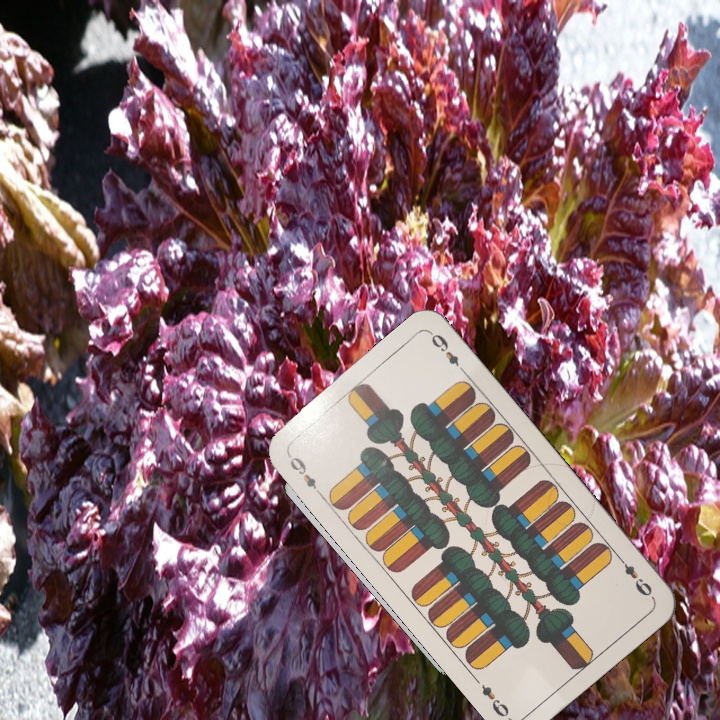E9: (613, 552, 656, 601), (283, 449, 325, 498)
